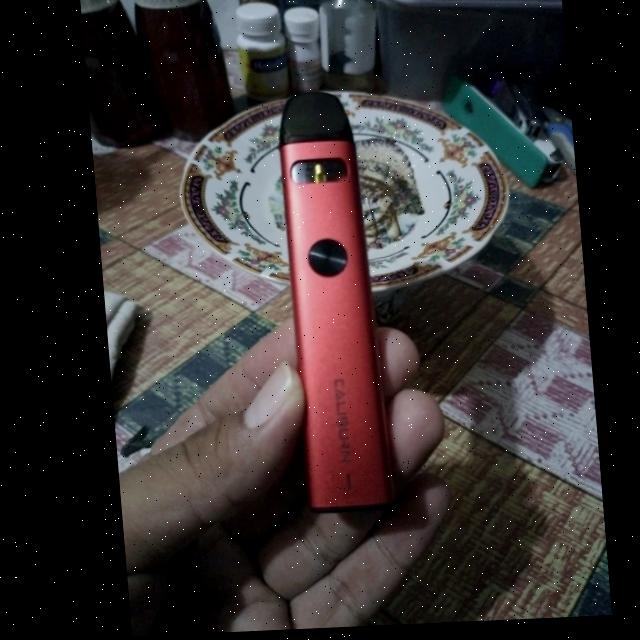vape: (273, 91, 392, 517)
